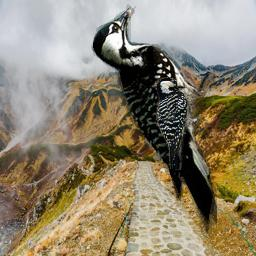Woodpecker: (90, 4, 217, 238), (154, 75, 203, 170)
